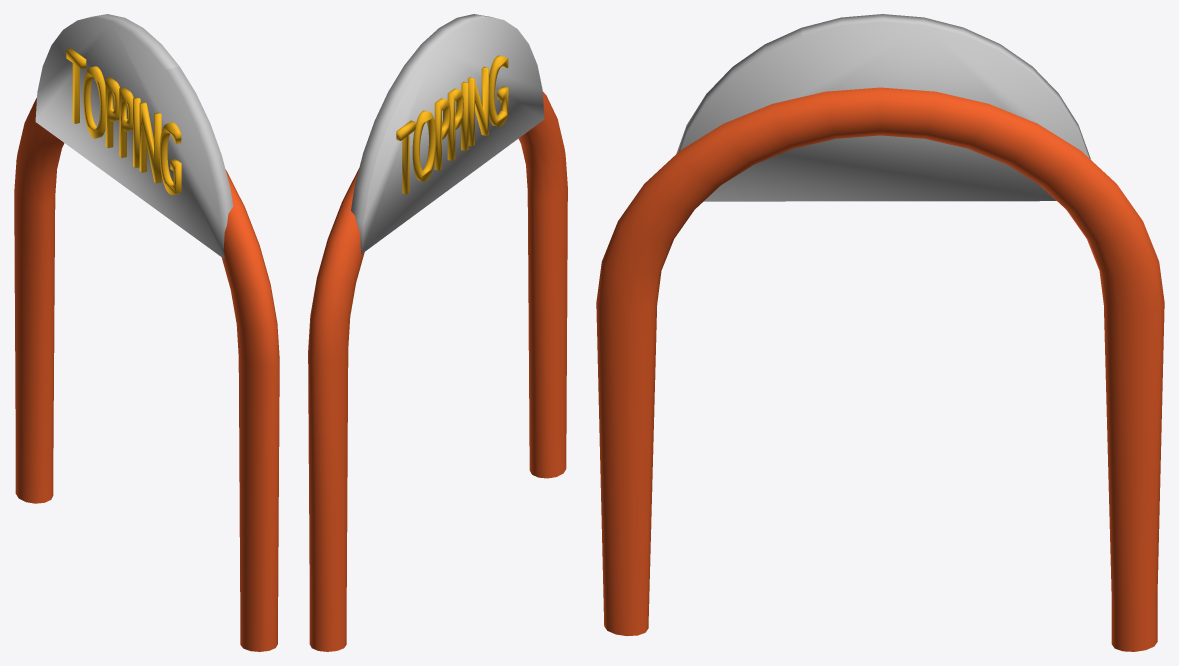
File: topping gate.fbx
3 views of the same model, side by side, from view 1: azimuth 30°, elevation 25°; view 2: azimuth 150°, elevation 25°; view 3: azimuth 270°, elevation 25° (orthographic). The views are drawn at different scales.
Parts seen in each view (by area): view 1: Circle.005, Circle.004, Circle.006; view 2: Circle.005, Circle.004, Circle.006; view 3: Circle.005, Circle.004.
Boxes of the visible parts, x1,y1,x2,y2 form: Circle.005: (14,98,279,651); Circle.004: (35,14,233,258); Circle.006: (66,48,181,195); Circle.005: (308,92,567,651); Circle.004: (351,14,544,253); Circle.006: (396,55,508,194); Circle.005: (596,87,1164,651); Circle.004: (676,14,1090,201).
Size of the model in its own units: 43.62 by 612 by 507.
3 materials, 3 textured.
